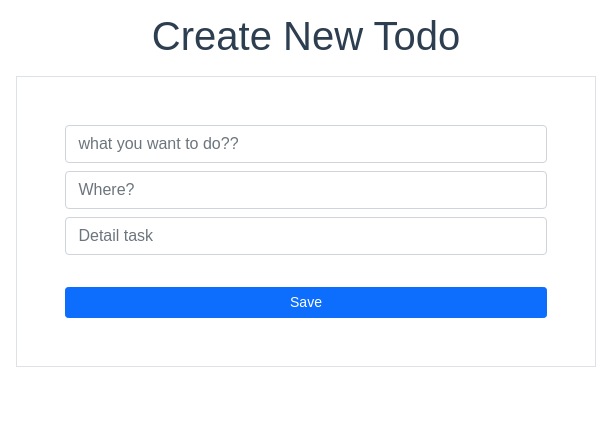
Page: NewTodo › shows error message when btn click and form incomplete
Type "someTodo" into the field with placeholder "what you want to do??" at (306, 144), box [65,125,547,163]
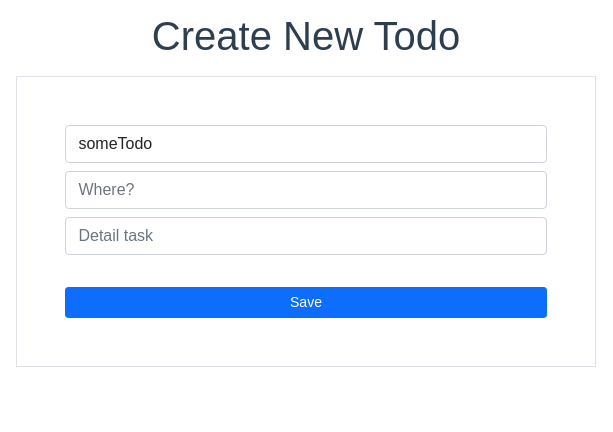
Click the button "Save" at (306, 302), box [65,287,547,318]
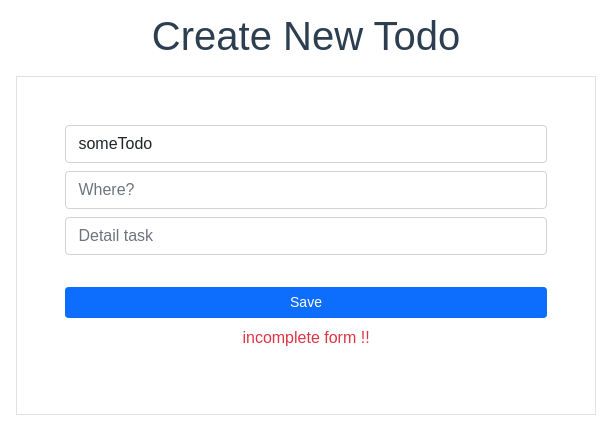
Expected: the text "incomplete form !!" is shown, [242,329,370,346]
